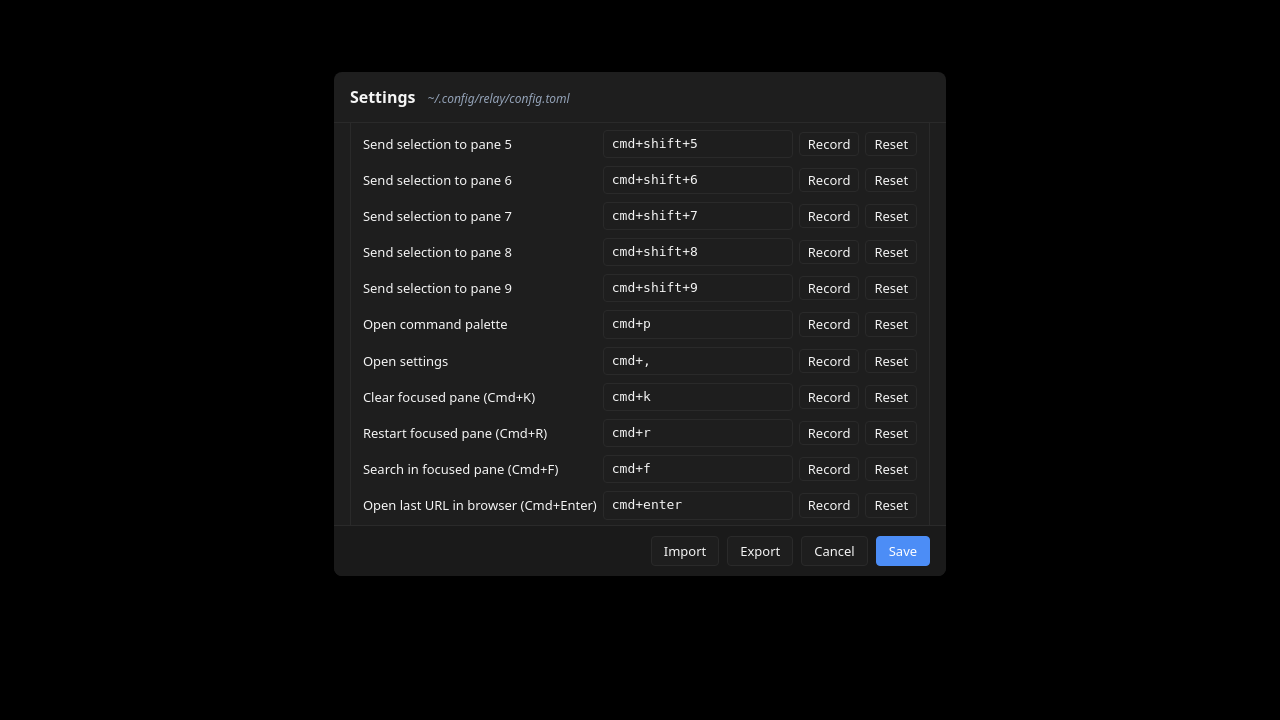
Test: SettingsPanel › Keybind row records a fresh combo and persists it as an override
(page scrolled)
Step 1. Click the button with test id "settings-keybind-record-palette.open" → (829, 325), box top-left (799, 312), bottom-right (859, 337)
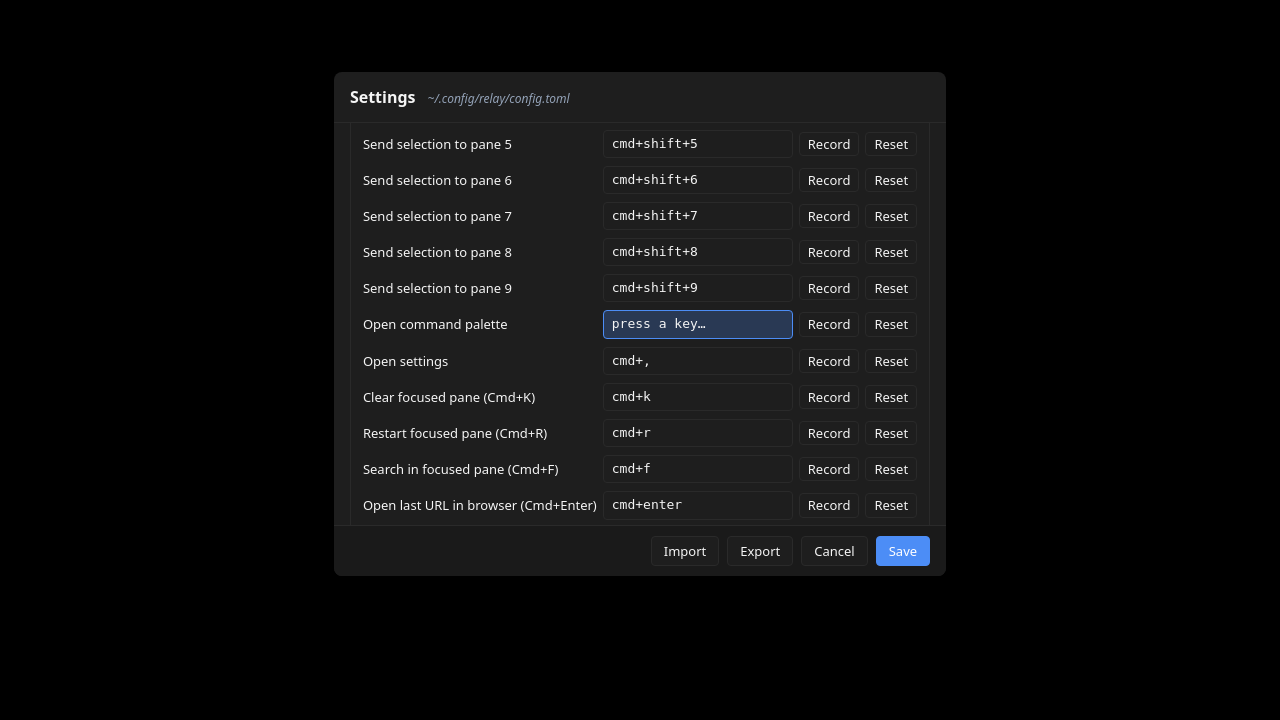
Step 2. Click the button with test id "settings-save" → (903, 551), box top-left (876, 536), bottom-right (930, 566)
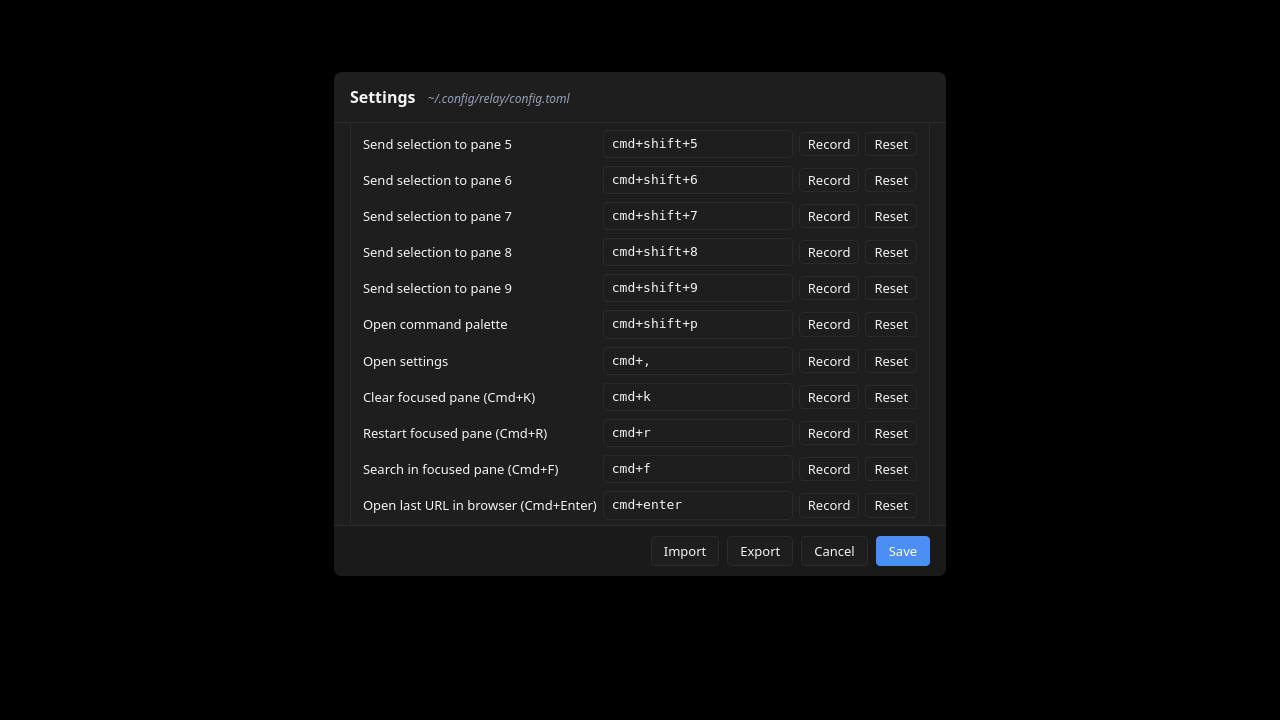
Expected: the text "cmd+shift+p" is shown, top-left (603, 310), bottom-right (793, 339)
